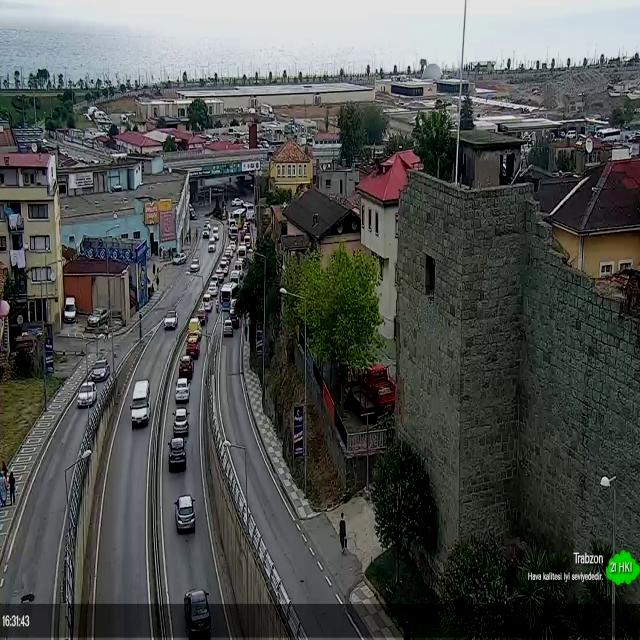Bus: (220, 282, 233, 312)
Car: (182, 588, 214, 637), (174, 494, 197, 531), (76, 380, 98, 411), (168, 436, 188, 468), (171, 408, 191, 435), (90, 357, 108, 382), (175, 378, 190, 403), (178, 355, 194, 377), (164, 310, 178, 330), (195, 309, 207, 323), (223, 319, 232, 336), (207, 283, 217, 296)
Truck: (188, 317, 201, 338)
Van: (128, 378, 152, 430), (185, 334, 199, 358), (202, 292, 212, 311)
